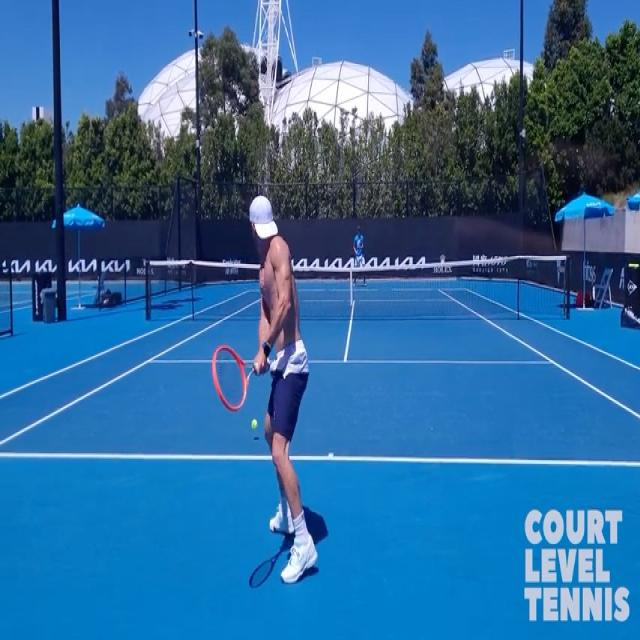backhand-ready: (211, 184, 320, 592)
